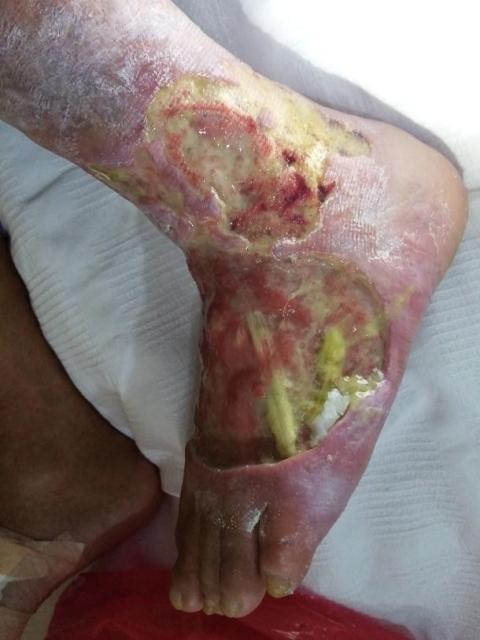wound: (92, 77, 392, 468)
